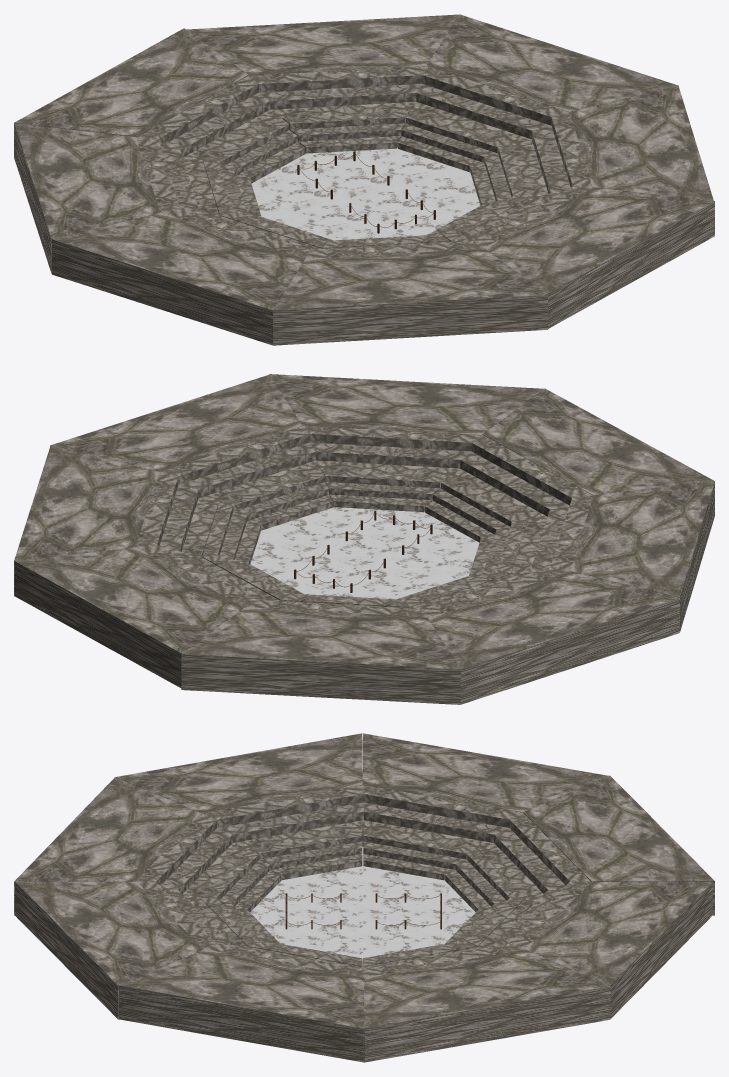
File: LevelDesign_Round_Arena.fbx
The picture shows the model from 3 angles, top to bottom: view 1: azimuth 30°, elevation 25°; view 2: azimuth 150°, elevation 25°; view 3: azimuth 270°, elevation 25°; orthographic projection. The views are drawn at different scales.
Visible parts, largest first — view 1: Pavement.002, Pavement.004, Pavement.003, Ground, Pavement.005, Pavement.006, Pavement, Pavement.007, Pavement.001, Stairs.015, Stairs.008, Stairs.014 (+13 smaller); view 2: Pavement.006, Pavement.005, Pavement.007, Ground, Pavement.004, Pavement.003, Pavement.002, Pavement, Pavement.001, Stairs.010, Stairs.009, Stairs.011 (+13 smaller); view 3: Pavement, Pavement.001, Ground, Pavement.003, Pavement.007, Pavement.006, Pavement.004, Pavement.005, Pavement.002, Stairs.012, Stairs.013, Stairs.011 (+13 smaller).
Boxes of the visible parts, x1,y1,x2,y2 form: Pavement.002: (273, 248, 547, 345); Pavement.004: (52, 212, 304, 345); Pavement.003: (484, 187, 714, 328); Ground: (251, 147, 480, 240); Pavement.005: (14, 123, 159, 273); Pavement.006: (14, 28, 248, 157); Pavement: (427, 14, 678, 112); Pavement.007: (186, 14, 459, 75); Pavement.001: (570, 85, 713, 200); Stairs.015: (248, 66, 428, 118); Stairs.008: (411, 66, 569, 144); Stairs.014: (138, 76, 280, 161); Pavement.006: (181, 607, 460, 704); Pavement.005: (428, 571, 679, 704); Pavement.007: (14, 547, 244, 687); Ground: (250, 507, 479, 599); Pavement.004: (570, 481, 714, 631); Pavement.003: (269, 374, 543, 435); Pavement.002: (482, 388, 714, 495); Pavement: (14, 445, 159, 595); Pavement.001: (50, 374, 302, 471); Stairs.010: (305, 425, 482, 476); Stairs.009: (161, 425, 320, 503); Stairs.011: (450, 435, 593, 520); Pavement: (363, 949, 610, 1062); Pavement.001: (119, 949, 365, 1062); Ground: (250, 846, 475, 966); Pavement.003: (15, 881, 203, 1019); Pavement.007: (524, 881, 712, 1018); Pavement.006: (523, 775, 714, 915); Pavement.004: (116, 733, 362, 813); Pavement.005: (362, 733, 608, 812); Pavement.002: (14, 777, 201, 915); Stairs.012: (202, 784, 364, 849); Stairs.013: (363, 785, 523, 849); Stairs.011: (136, 813, 247, 897).
Size of the model in its own units: 21714 by 1184 by 21769.
Materials: 5 (5 with a texture image).
